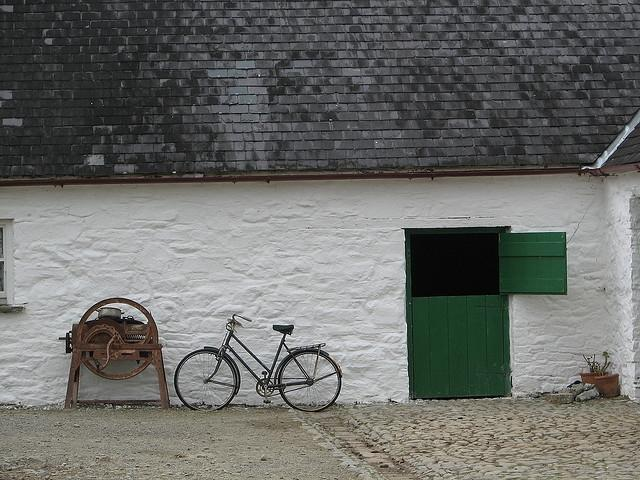bicycle: (172, 312, 344, 414)
